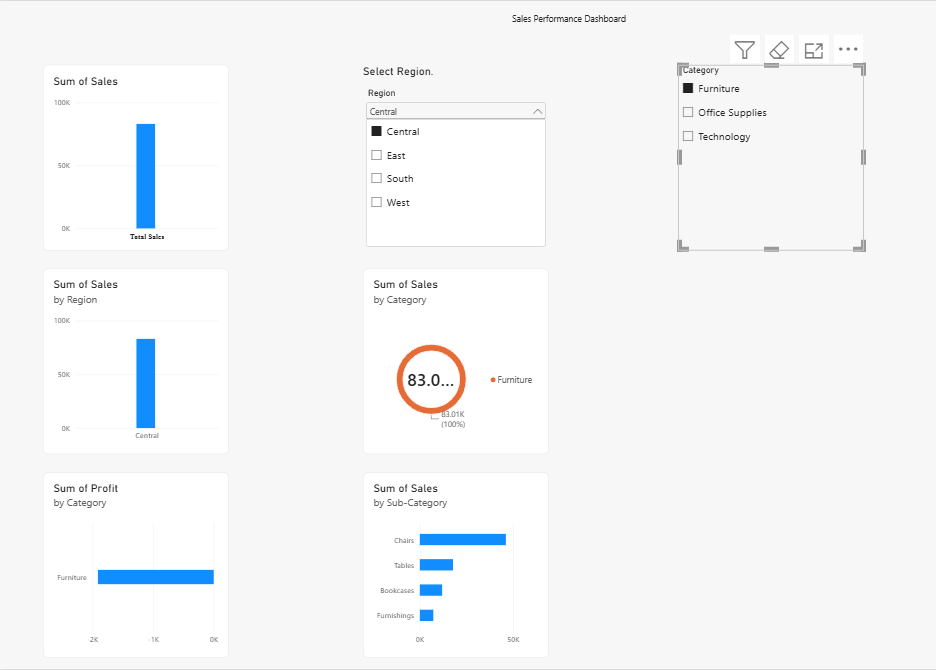

What the dashboard file says about the page in this screenshot:
{"tool":"powerbi","page":{"name":"Page 1","canvas":[1920,1080],"ordinal":0},"visuals":[{"type":"clusteredColumnChart","fields":{"Y":["Sum(Table1.Sales)"]},"box":[72,102.9,300,300],"z":0},{"type":"clusteredColumnChart","fields":{"Category":["Table1.Region"],"Y":["Sum(Table1.Sales)"]},"box":[72,432.2,300,300],"z":1000},{"type":"donutChart","fields":{"Category":["Table1.Category"],"Y":["Sum(Table1.Sales)"]},"box":[588.7,432.2,300,300],"z":2000},{"type":"clusteredBarChart","fields":{"Category":["Table1.Category"],"Y":["Sum(Table1.Profit)"]},"box":[72,761.6,300,300],"z":3000},{"type":"clusteredBarChart","fields":{"Category":["Table1.Sub-Category"],"Y":["Sum(Table1.Sales)"]},"box":[588.7,761.6,300,300],"z":4000},{"type":"slicer","title":"Select Region.","fields":{"Values":["Table1.Region"]},"box":[588.7,102.9,300,300],"z":5000},{"type":"textbox","box":[557.8,0,691.6,63.8],"z":7000},{"type":"slicer","fields":{"Values":["Table1.Category"]},"box":[1099.1,102.9,300,300],"z":7002}]}

Visuals, with their boxes on the page's 1920x1080 design canvas (x1, y1, x2, y2). These are canvas units, not pixel positions in the 936x670 screenshot, which may show the page scaled, cropped or inside an application window:
clusteredColumnChart - Sum(Table1.Sales): crop(72, 103, 372, 403)
clusteredColumnChart - Table1.Region x Sum(Table1.Sales): crop(72, 432, 372, 732)
donutChart - Table1.Category x Sum(Table1.Sales): crop(589, 432, 889, 732)
clusteredBarChart - Table1.Category x Sum(Table1.Profit): crop(72, 762, 372, 1062)
clusteredBarChart - Table1.Sub-Category x Sum(Table1.Sales): crop(589, 762, 889, 1062)
"Select Region." slicer: crop(589, 103, 889, 403)
textbox: crop(558, 0, 1249, 64)
slicer - Table1.Category: crop(1099, 103, 1399, 403)
